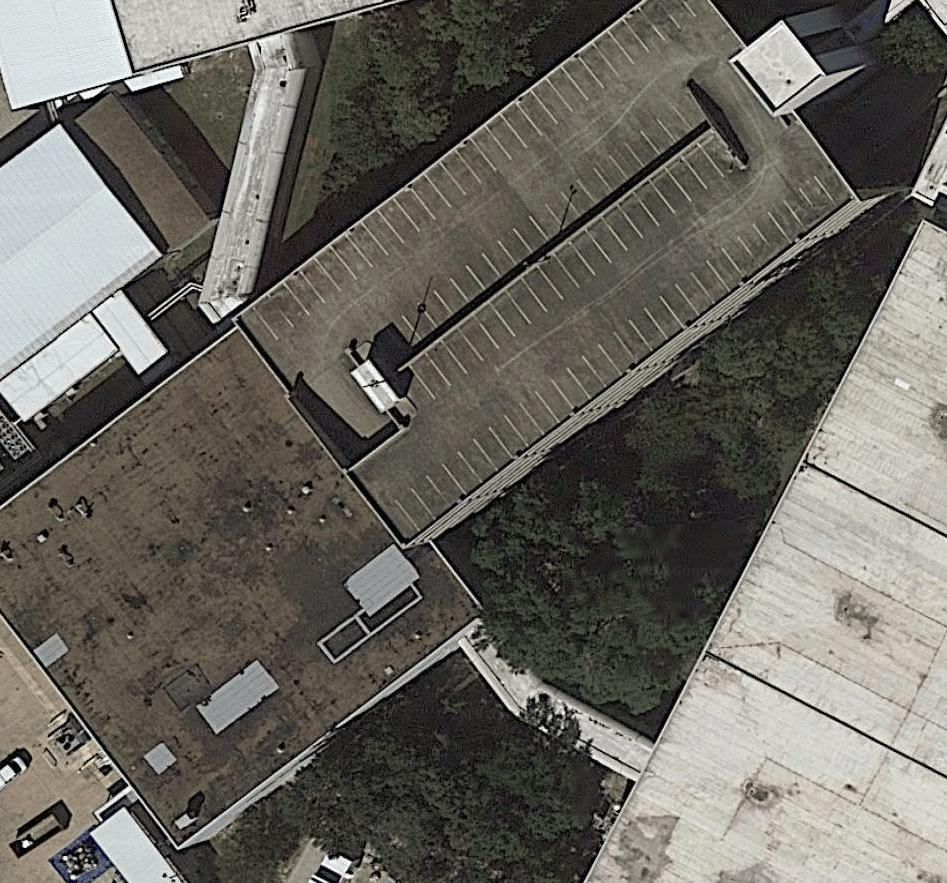parkingspot: (375, 160, 855, 548), (232, 0, 717, 357), (390, 127, 743, 416), (369, 91, 712, 370)
